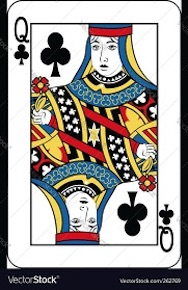QueenOfClubs: (9, 1, 185, 270)
